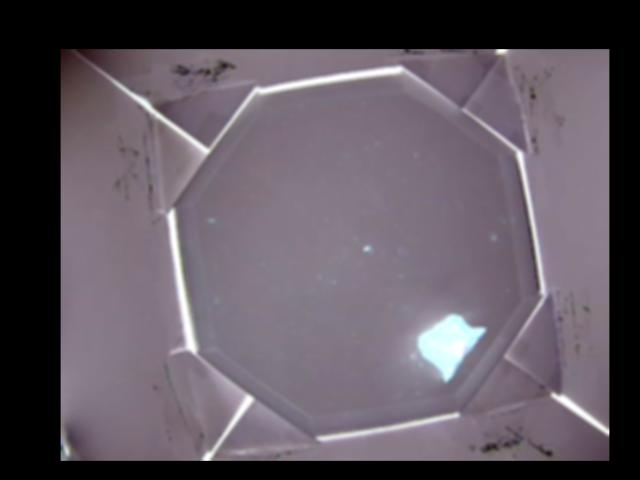Brisk: (419, 313, 485, 382)
